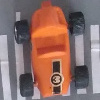naranja_sur: (13, 1, 89, 100)
